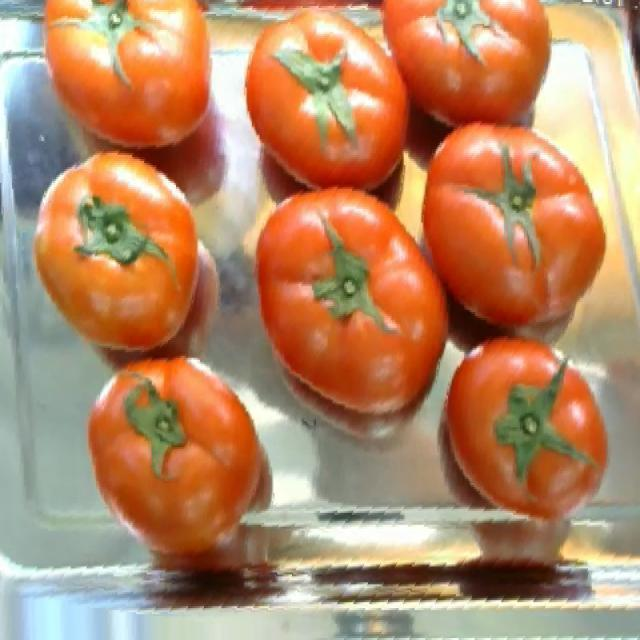sari: (60, 114, 592, 482)
